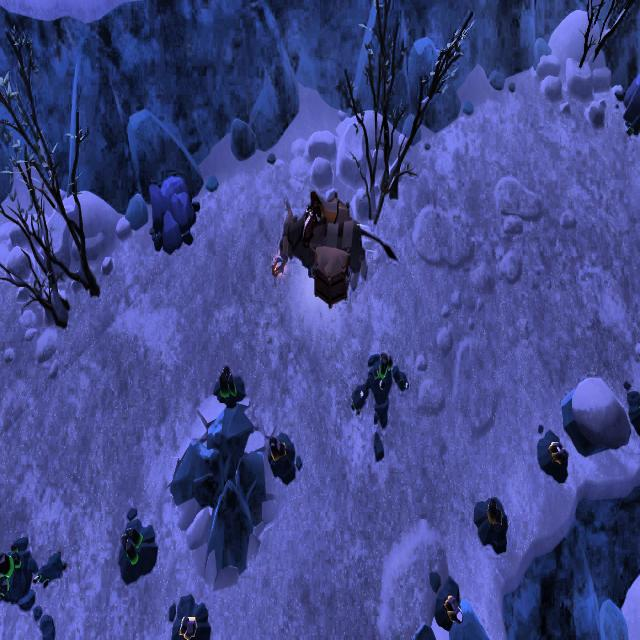ore_t3: (120, 525, 143, 568), (217, 364, 237, 404)
rock_t4: (148, 176, 199, 252)
